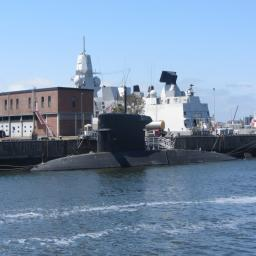submarine: (33, 89, 253, 165)
